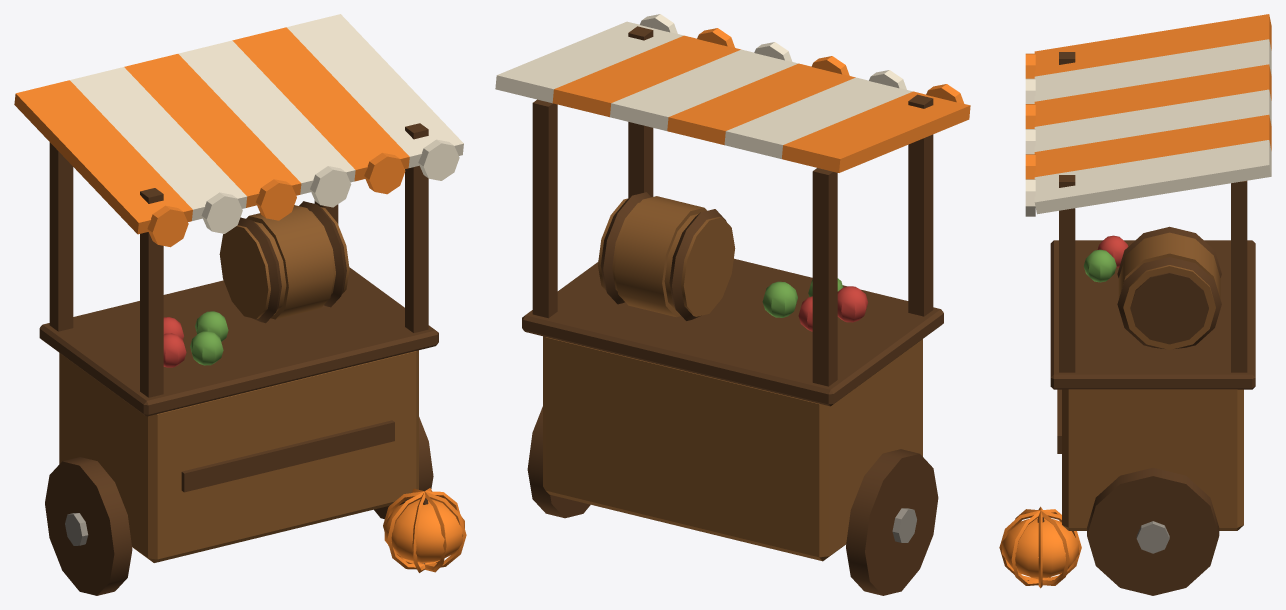
The model's file is PR_Station_SezonHasat_T1.fbx.
The picture shows the model from 3 angles, left to right: view 1: azimuth 30°, elevation 25°; view 2: azimuth 150°, elevation 25°; view 3: azimuth 270°, elevation 25°; orthographic projection. The views are drawn at different scales.
Visible parts, largest first — view 1: PR_Station_SezonHasat_T1; view 2: PR_Station_SezonHasat_T1; view 3: PR_Station_SezonHasat_T1.
Boxes of the visible parts, x1=… form: PR_Station_SezonHasat_T1: x1=14, y1=14, x2=466, y2=595; PR_Station_SezonHasat_T1: x1=495, y1=14, x2=970, y2=595; PR_Station_SezonHasat_T1: x1=999, y1=14, x2=1271, y2=595.
Bounding box in the file's own units: 1.1 × 1.46 × 0.8226.
1 material, 1 textured.
